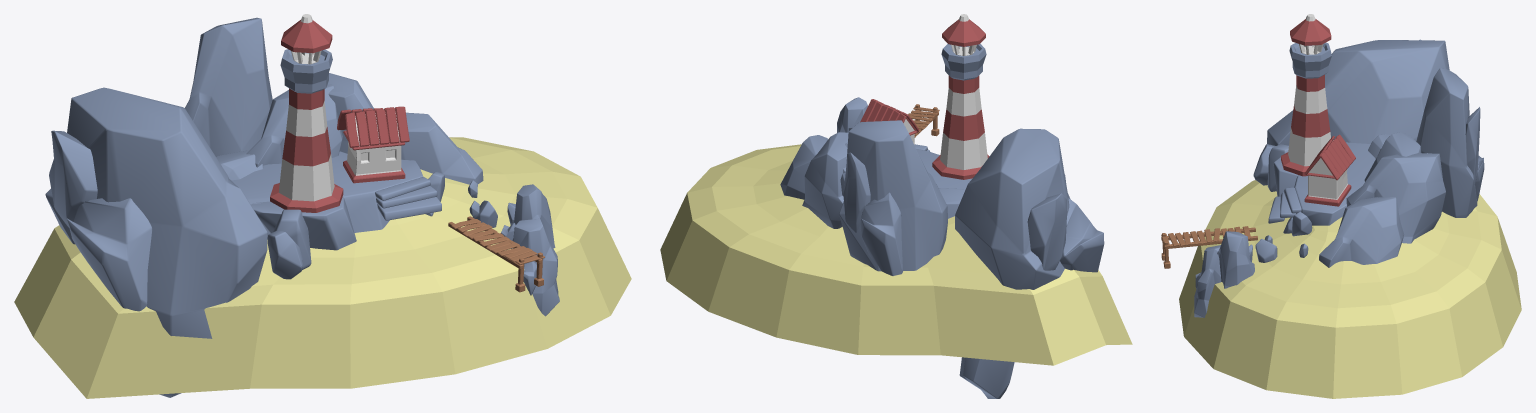
The model's file is rocks.fbx.
3 views of the same model, side by side, from view 1: azimuth 30°, elevation 25°; view 2: azimuth 150°, elevation 25°; view 3: azimuth 270°, elevation 25° (orthographic). The views are drawn at different scales.
Parts seen in each view (by area): view 1: Cube.046, Cube.112, Cylinder, Cube.110, Cube.122, Cube.052, Cube.050, Cube.111, Cube.070, Cube.055, Cube.048, Cube.051 (+5 smaller); view 2: Cube.046, Cube.112, Cube.110, Cylinder, Cube.051, Cube.105, Cube.052, Cube.055, Cube.122, Cube.063; view 3: Cube.046, Cube.112, Cube.110, Cylinder, Cube.051, Cube.052, Cube.122, Cube.055, Cube.070, Cube.111, Cube.050, Cube.047 (+4 smaller).
Part boxes in pixels (x1,y1,x2,y2): Cube.046: (14, 137, 631, 398); Cube.112: (45, 87, 267, 338); Cylinder: (270, 14, 343, 212); Cube.110: (185, 17, 272, 156); Cube.122: (231, 151, 423, 250); Cube.052: (401, 112, 483, 184); Cube.050: (246, 84, 342, 167); Cube.111: (511, 218, 559, 316); Cube.070: (343, 113, 405, 183); Cube.055: (501, 184, 555, 248); Cube.048: (267, 230, 302, 279); Cube.051: (327, 73, 373, 153); Cube.046: (660, 144, 1132, 365); Cube.112: (955, 128, 1104, 289); Cube.110: (839, 120, 947, 275); Cylinder: (932, 14, 989, 179); Cube.051: (802, 132, 848, 228); Cube.105: (959, 357, 1014, 398); Cube.052: (780, 135, 828, 199); Cube.055: (837, 97, 867, 132); Cube.122: (916, 149, 972, 189); Cube.063: (938, 188, 965, 218); Cube.046: (1179, 180, 1521, 398); Cube.112: (1267, 39, 1449, 145); Cube.110: (1416, 68, 1484, 217); Cylinder: (1281, 14, 1331, 176); Cube.051: (1346, 153, 1445, 243); Cube.052: (1319, 197, 1403, 267); Cube.122: (1273, 142, 1375, 225); Cube.055: (1217, 231, 1254, 288); Cube.070: (1304, 140, 1351, 206); Cube.111: (1194, 245, 1221, 317); Cube.050: (1364, 132, 1421, 181); Cube.047: (1267, 144, 1288, 191).
Bounding box in the file's own units: 1779 × 1259 × 1261.
